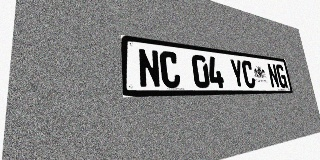0: (191, 54, 210, 88)
4: (206, 56, 225, 88)
C: (159, 50, 181, 88), (241, 60, 256, 88)
G: (275, 64, 288, 88)
N: (137, 48, 161, 88), (267, 63, 280, 88)
Y: (229, 59, 245, 88)
